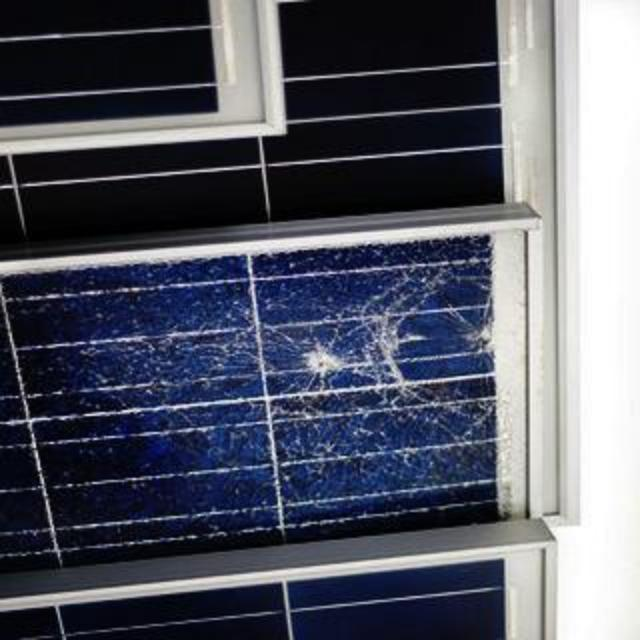cracked: (2, 232, 544, 554)
